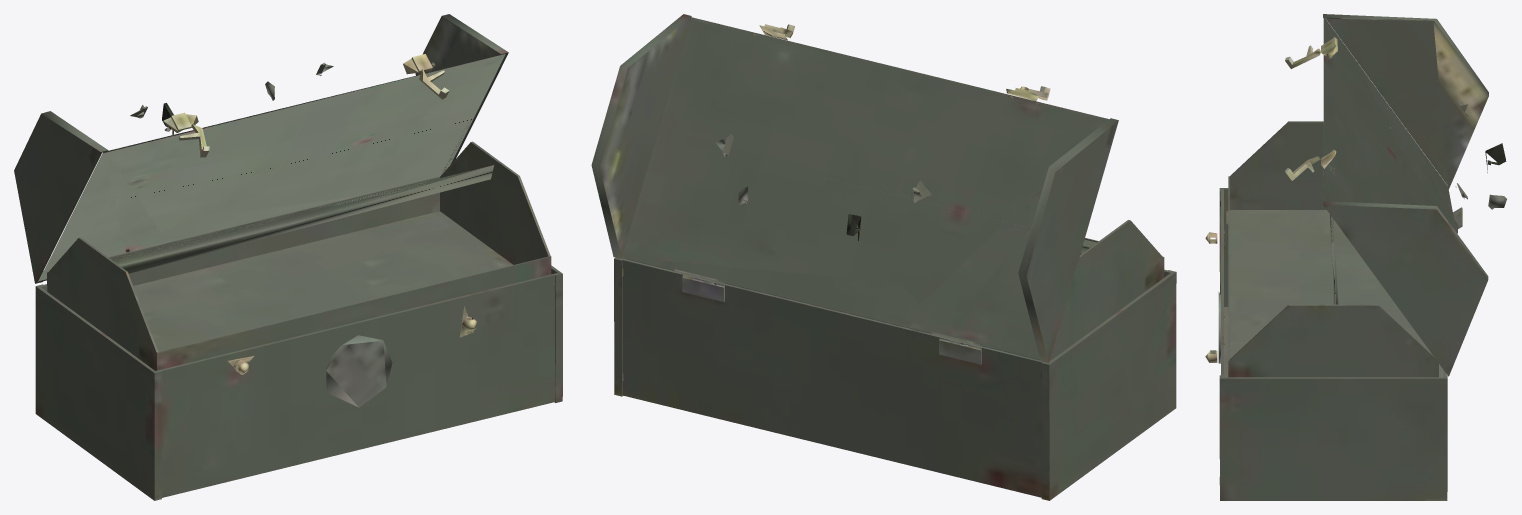
File: toolbox-metal.glb
3 renders of one model, left to right at view 1: azimuth 30°, elevation 25°; view 2: azimuth 150°, elevation 25°; view 3: azimuth 270°, elevation 25°, orthographic. The views are drawn at different scales.
Parts seen in each view (by area): view 1: metal_toolbox, metal_toolbox_tray, Cylinder.015; view 2: Cylinder.015, metal_toolbox, metal_toolbox_tray; view 3: Cylinder.015, metal_toolbox_tray, metal_toolbox, metal_toolbox_handle.
Part boxes in pixels (box(x1,y1,x2,y2)): metal_toolbox: box(35, 265, 562, 500); metal_toolbox_tray: box(47, 141, 551, 370); Cylinder.015: box(14, 14, 508, 283); Cylinder.015: box(591, 14, 1118, 363); metal_toolbox: box(614, 257, 1176, 500); metal_toolbox_tray: box(626, 220, 1164, 361); Cylinder.015: box(1321, 14, 1488, 376); metal_toolbox_tray: box(1228, 121, 1438, 377); metal_toolbox: box(1205, 188, 1447, 500); metal_toolbox_handle: box(1485, 143, 1506, 209).
Size of the model in its own units: 0.4 by 0.3018 by 0.268.
1 material, 1 textured.
